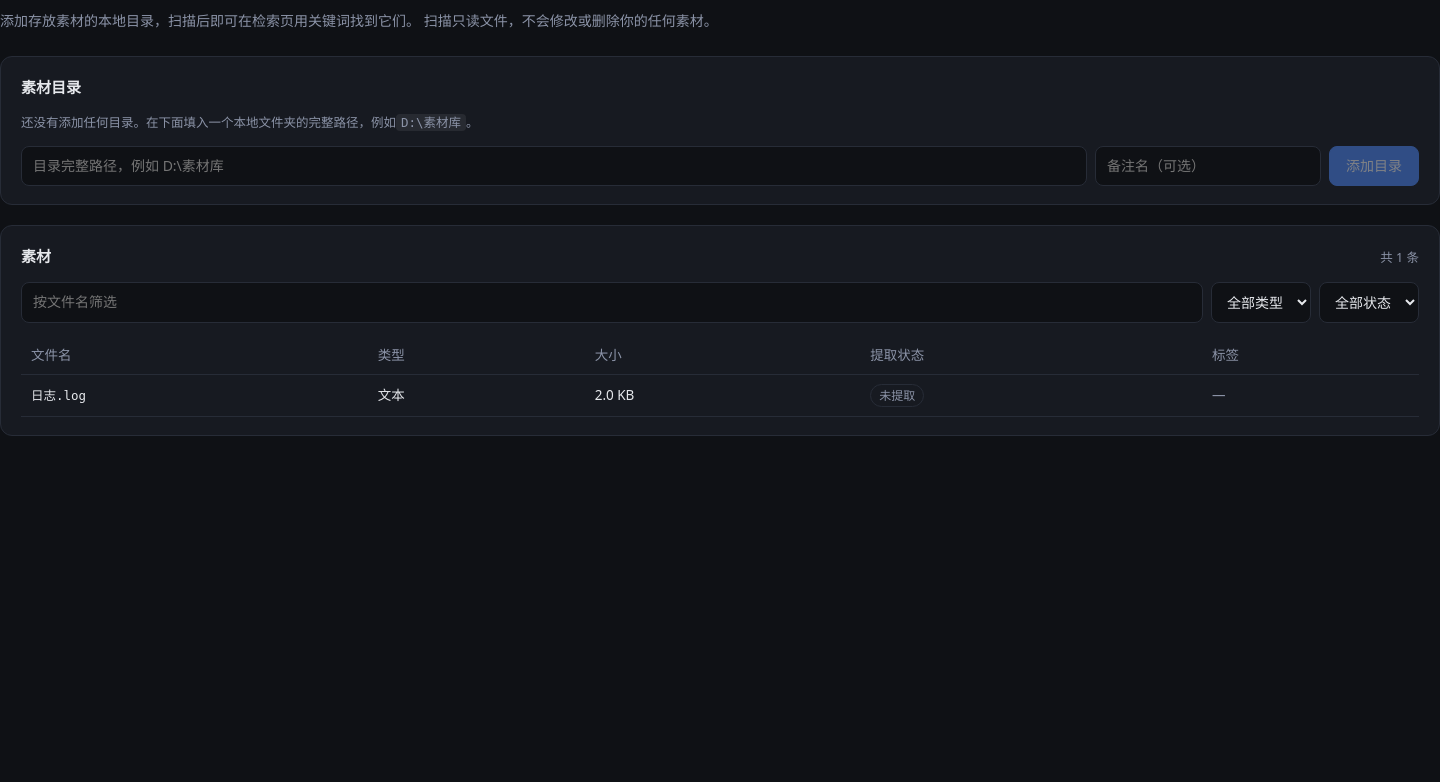
Test: 素材库页面 › 提取入口 › 还不能直接读的文本格式：按钮禁用并说明原因
Step 1. Click the text "日志.log" → (194, 396), box [21,375,368,417]
(page scrolled)
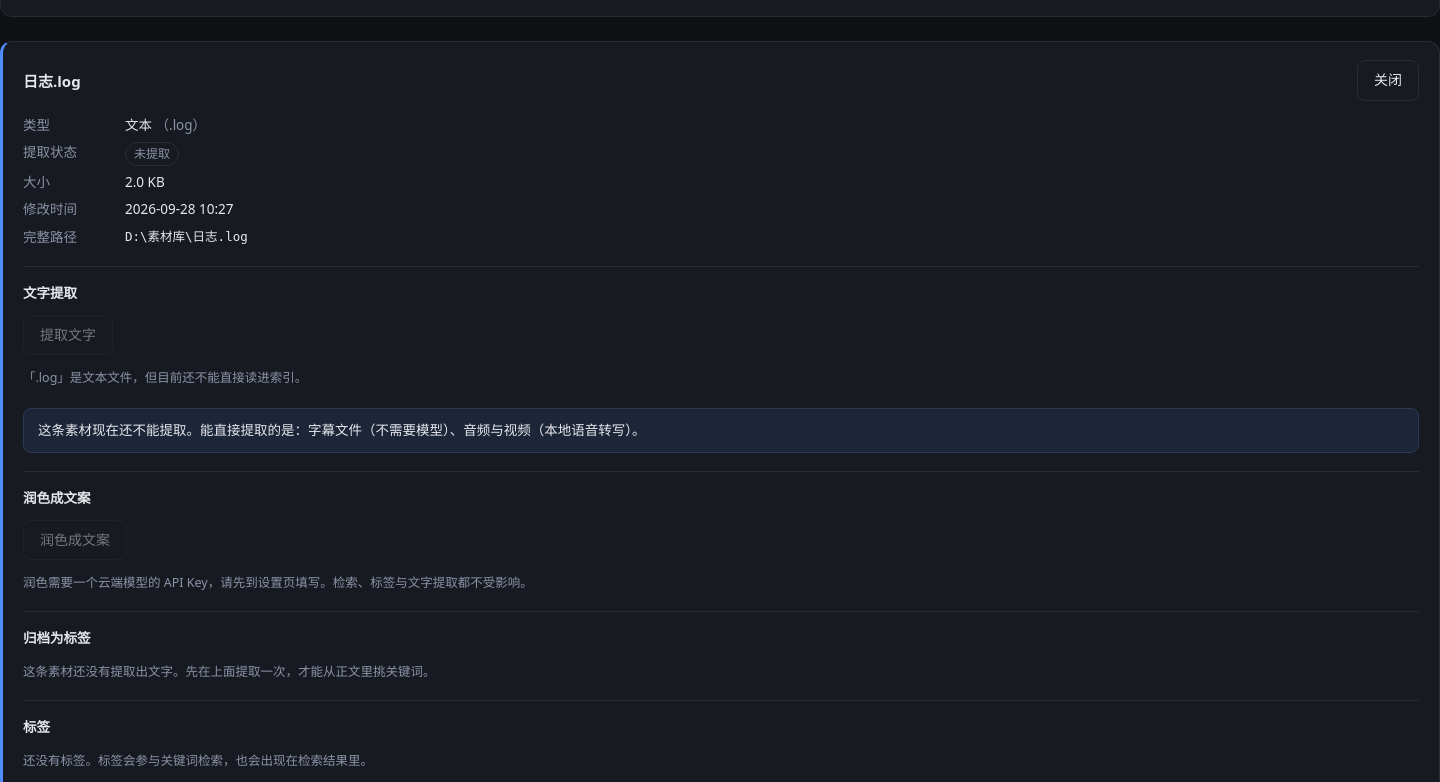
Expected: the button "提取文字" is disabled, [23,315,113,355]
Expected: the text "「.log」是文本文件，但目前还不能直接读进索引。" is shown, [23,369,307,386]
